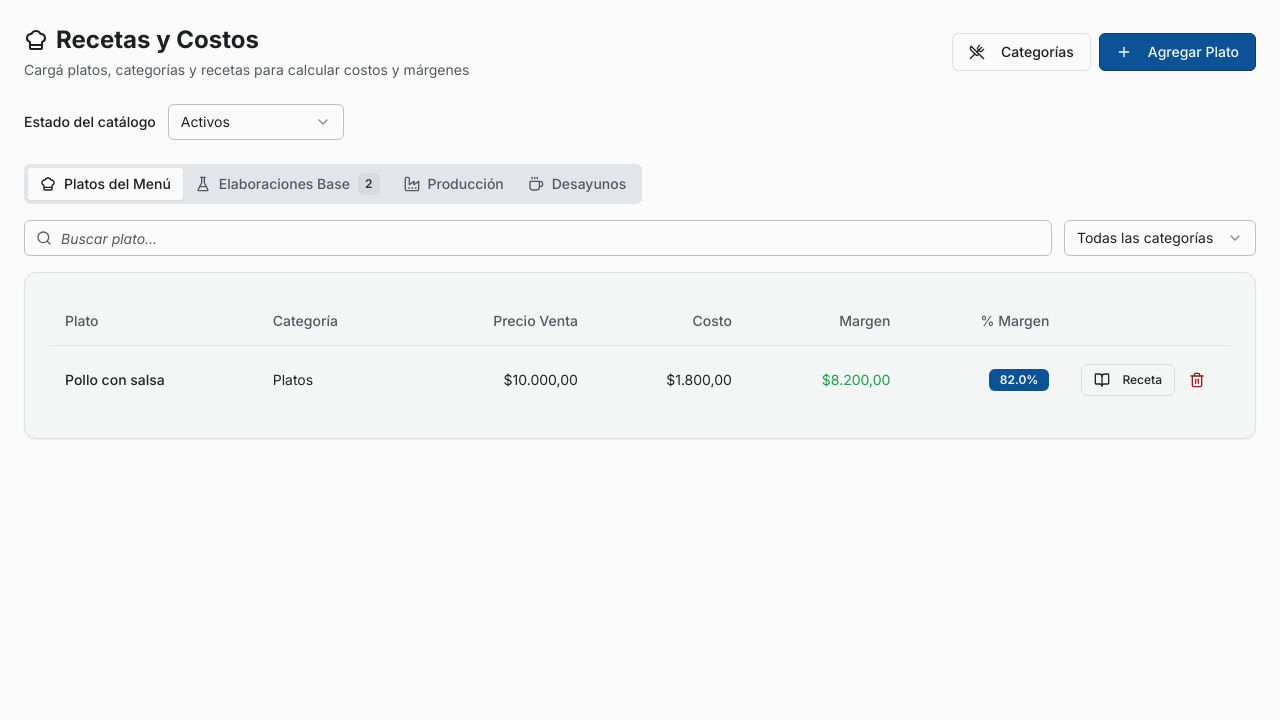
opens the dish with ingredient entry before the assembled recipe and totals
The width and height of the screenshot is (1280, 720).
Click the button with test id "button-edit-recipe-menu": point(1128, 380) [1081,364,1175,396]
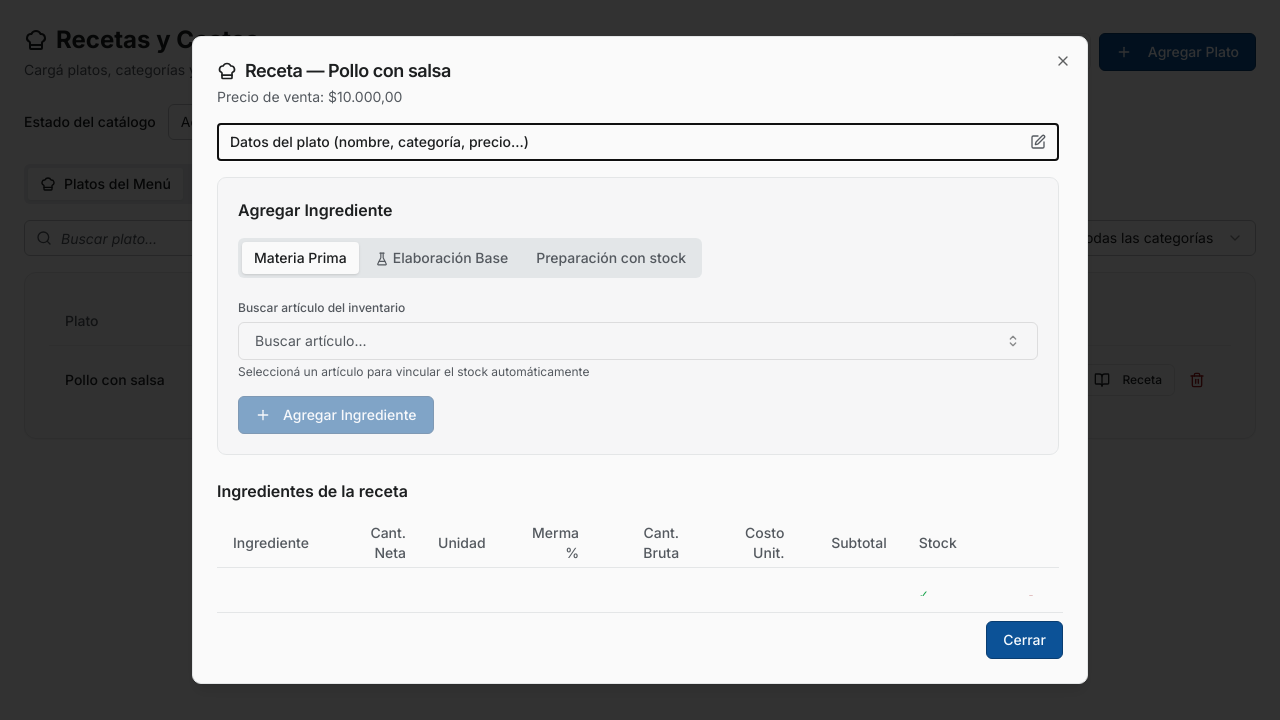
Click the button "Elaboración Base": point(442, 258) [363,242,520,274]
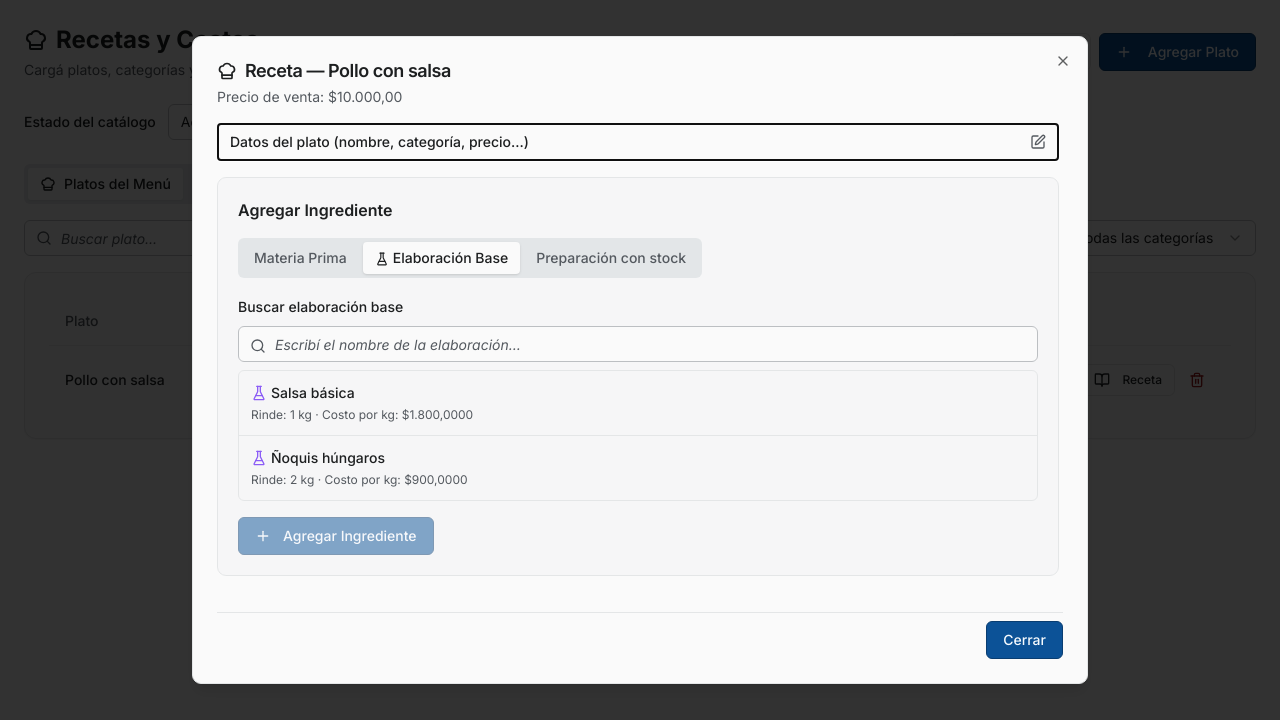
In the field labelled "Buscar elaboración base": point(638, 344) [238,326,1038,362], type "noquis hungaros"
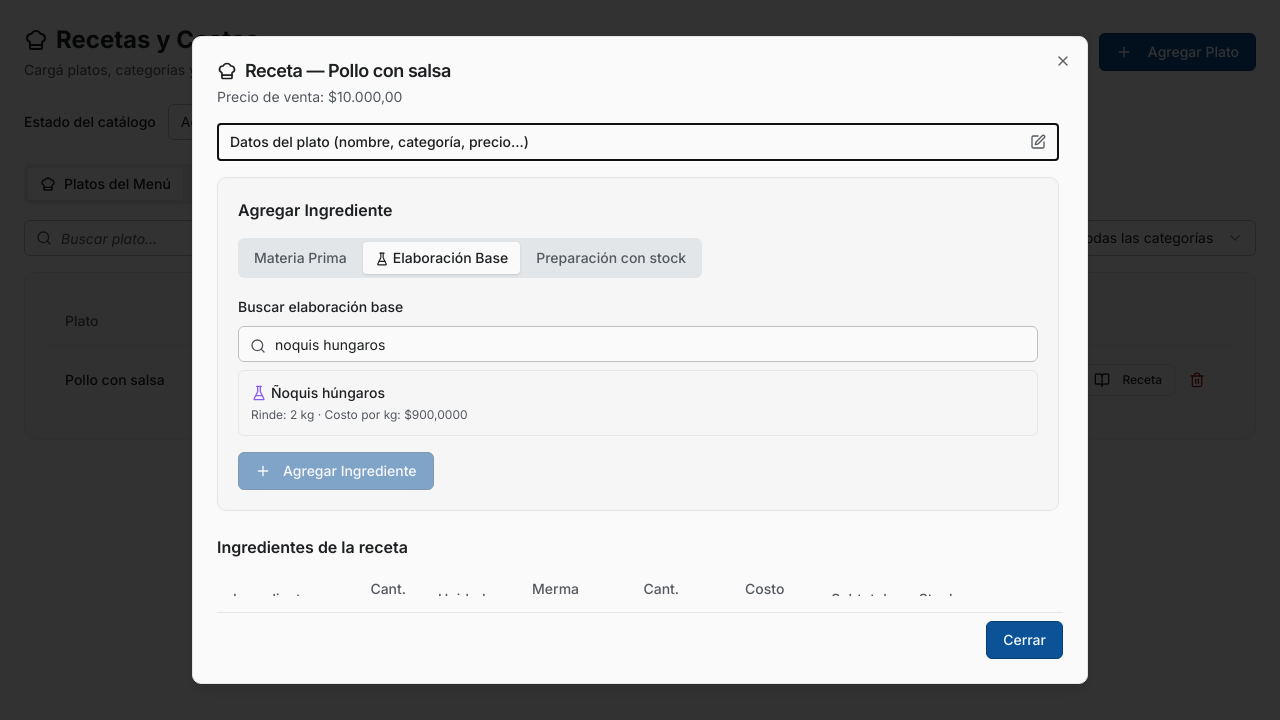
expect the button "Salsa básica" is gone: met
Click the button "Ñoquis húngaros Rinde: 2 kg · Costo por kg: $900,0000": point(328, 392) [239,371,1037,435]
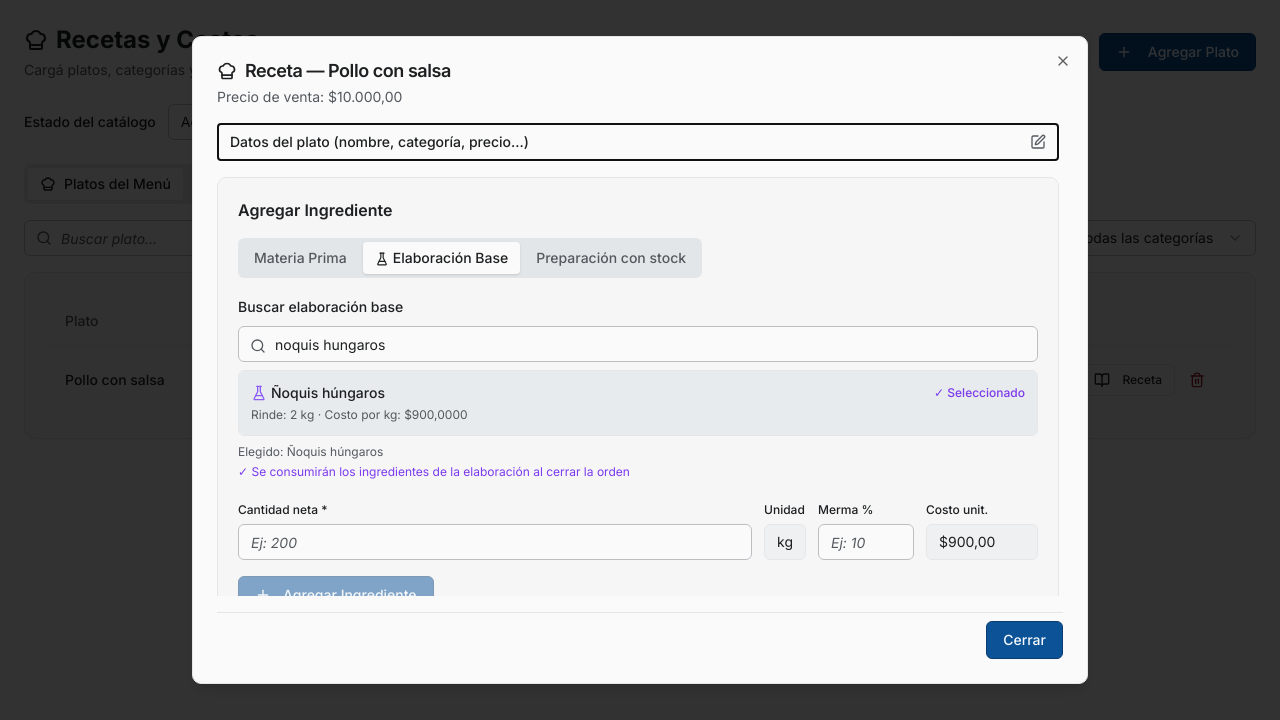
expect the text "kg" is shown: met, box [764,524,806,560]
In the number field with test id "input-ingredient-qty": point(495, 542) [238,524,752,560], type "0.1"
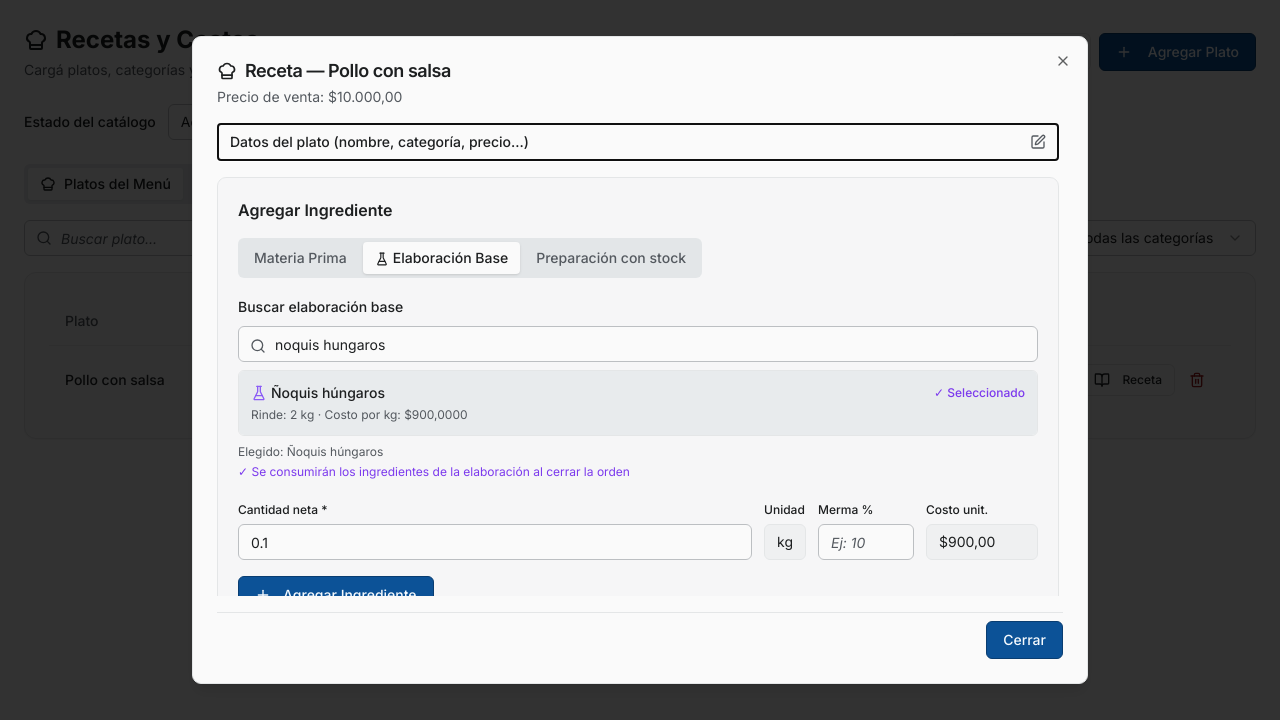
Click the button with test id "button-add-ingredient": point(336, 595) [238,576,434,614]
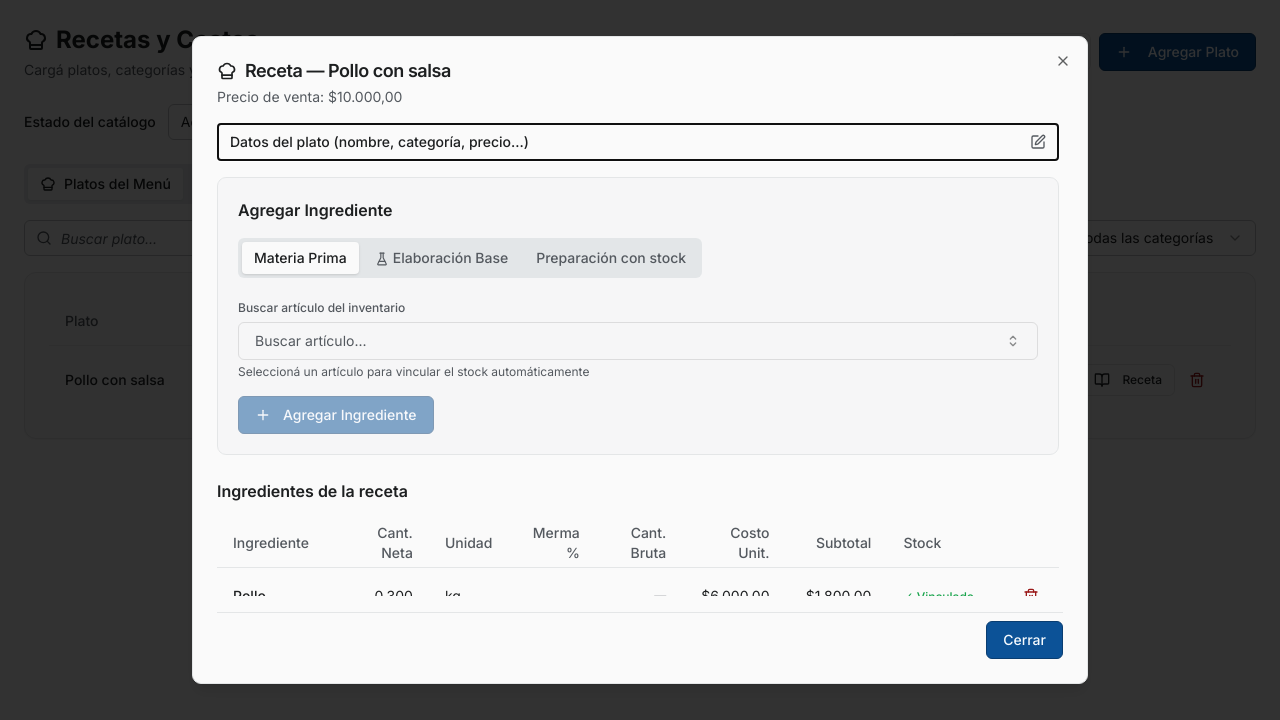
expect the label "Buscar elaboración base" is gone: met
expect the button with test id "button-add-ingredient" is disabled: met, box [238,396,434,434]
